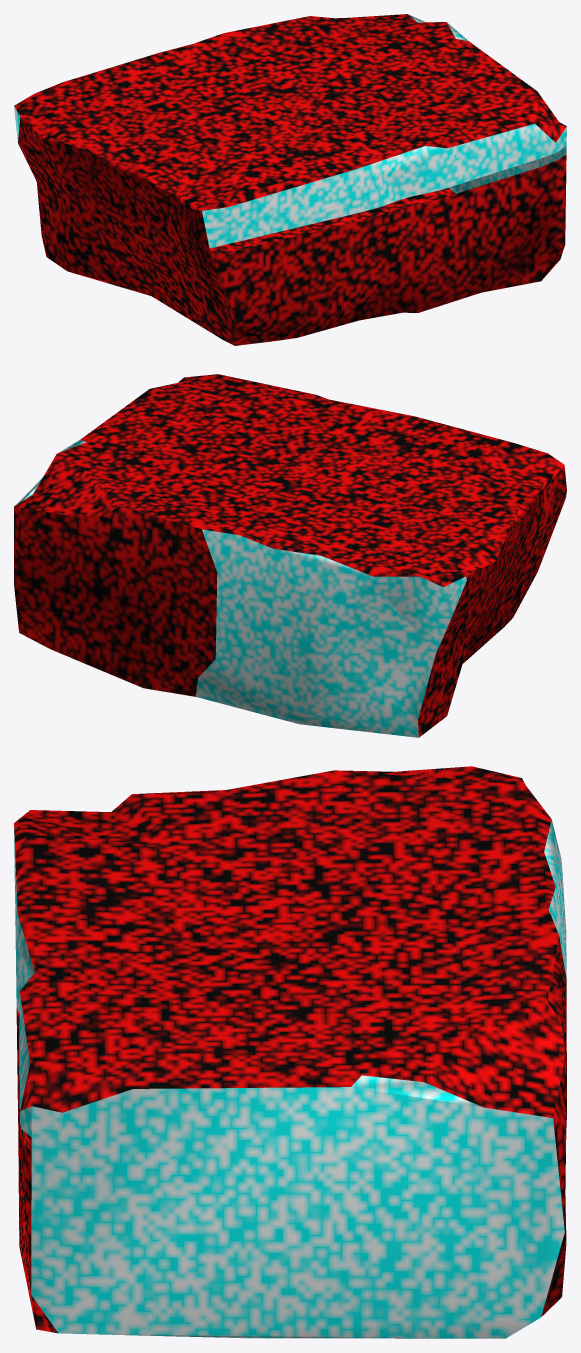
Rendered from SM_Bric_01_HJS.fbx.
The picture shows the model from 3 angles, top to bottom: view 1: azimuth 30°, elevation 25°; view 2: azimuth 150°, elevation 25°; view 3: azimuth 270°, elevation 25°; orthographic projection. The views are drawn at different scales.
Parts seen in each view (by area): view 1: SM_Bric_01_HJS; view 2: SM_Bric_01_HJS; view 3: SM_Bric_01_HJS.
Boxes of the visible parts, left/top/right/bottom form: SM_Bric_01_HJS: left=14, top=14, right=566, bottom=345; SM_Bric_01_HJS: left=14, top=374, right=566, bottom=737; SM_Bric_01_HJS: left=14, top=766, right=566, bottom=1338.
Size of the model in its own units: 15.86 by 6.14 by 11.36.
